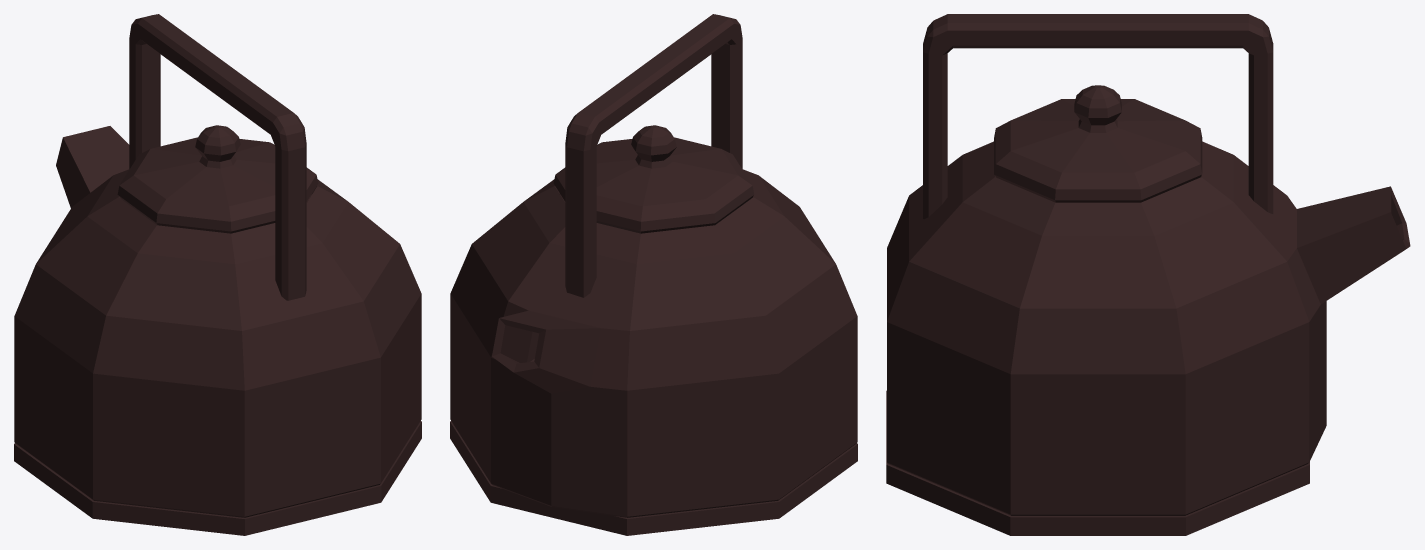
File: czajnik.fbx
3 renders of one model, left to right at view 1: azimuth 30°, elevation 25°; view 2: azimuth 150°, elevation 25°; view 3: azimuth 270°, elevation 25°, orthographic. The views are drawn at different scales.
Parts seen in each view (by area): view 1: czajnik_L; view 2: czajnik_L; view 3: czajnik_L.
Boxes of the visible parts, bbox=[...] form: czajnik_L: bbox=[14, 14, 421, 535]; czajnik_L: bbox=[450, 14, 857, 535]; czajnik_L: bbox=[886, 14, 1410, 535].
Bounding box in the file's own units: 191 × 154 × 172.
